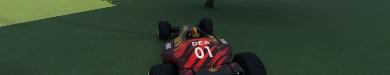Car: (146, 18, 267, 74)
grass: (0, 0, 389, 74)
